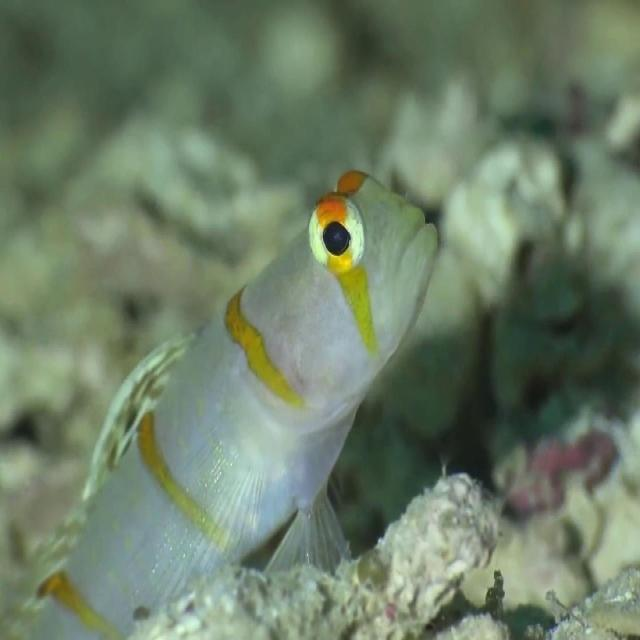fish: (0, 166, 440, 638)
